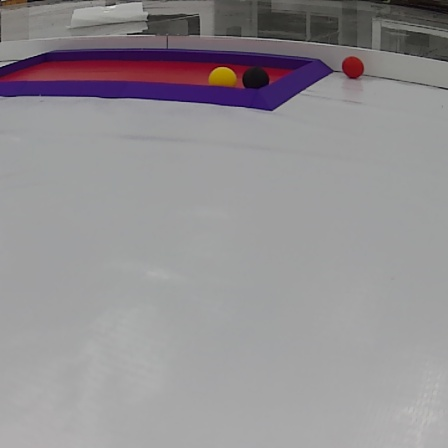black: (243, 69, 269, 88)
red: (342, 55, 364, 79)
red_aim: (0, 43, 332, 113)
yellow: (206, 65, 236, 88)
